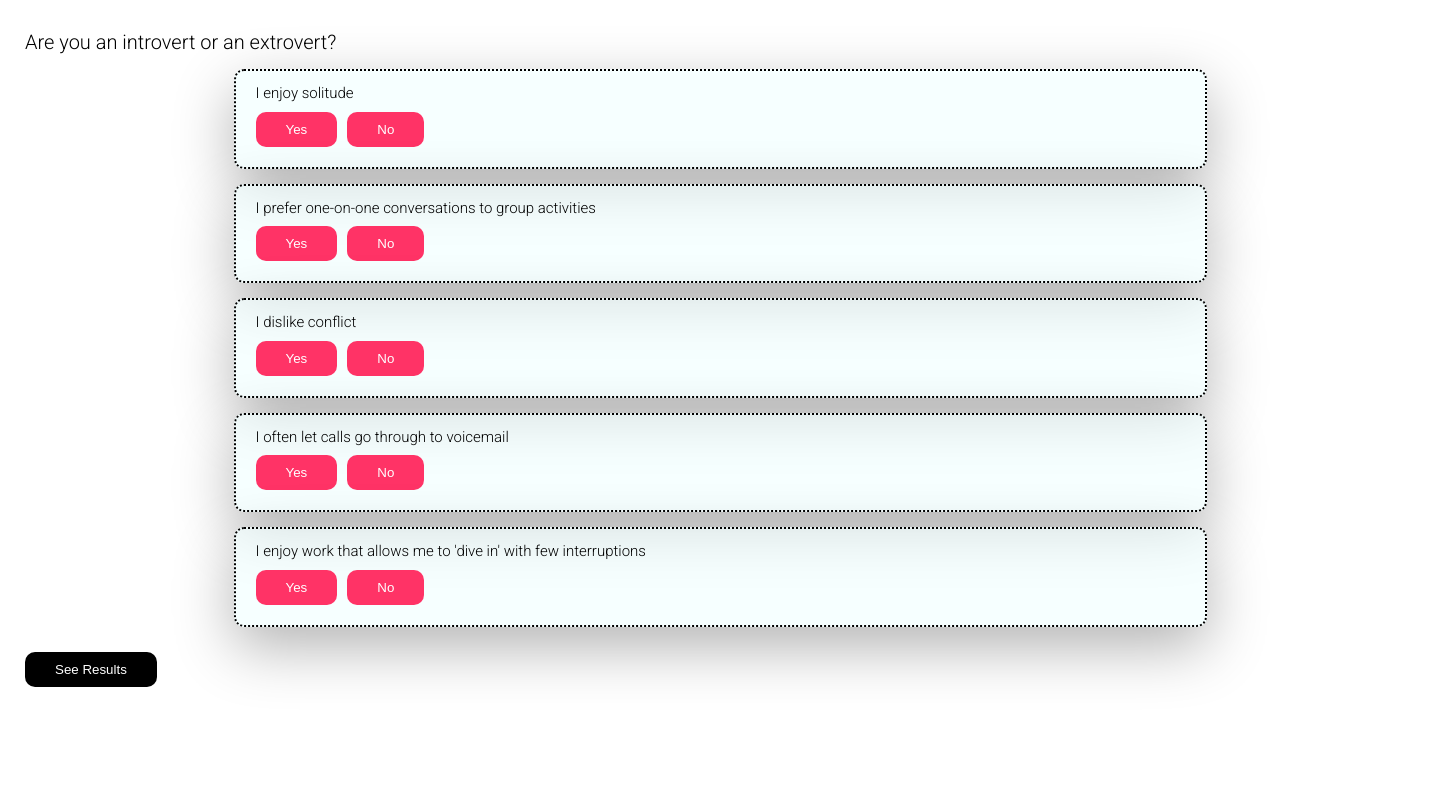
PersonalityPage component › interactions › should display 'Extrovert' on button clicks
This screenshot has width=1440, height=810.
What coordinates should you click on to do the following:
click the button "No" below "I enjoy solitude"
I would click on:
 (386, 129)
Its box is left=347, top=112, right=424, bottom=146.
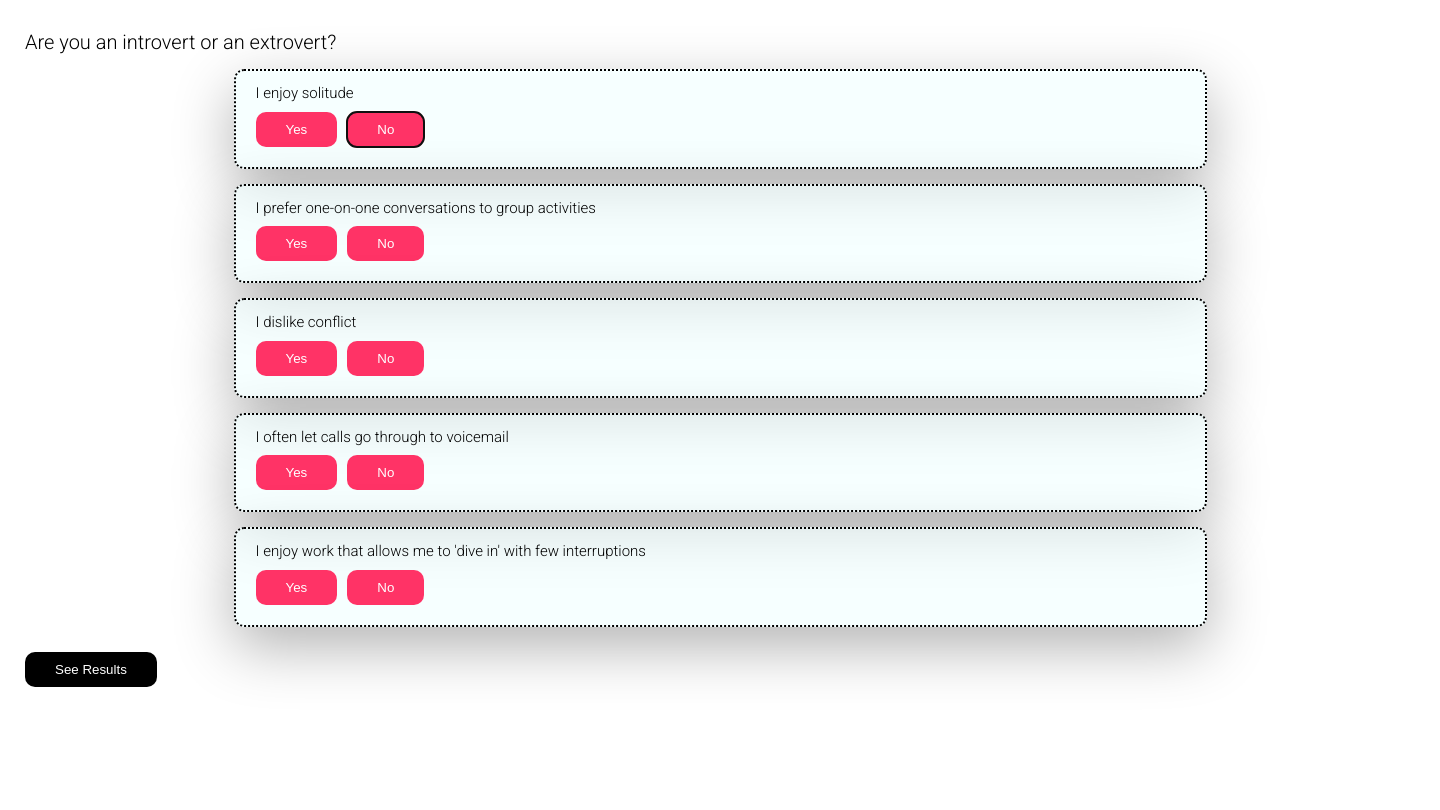
What coordinates should you click on to do the following:
click the 2nd button "No"
I would click on:
 (386, 244)
Its box is left=347, top=226, right=424, bottom=261.
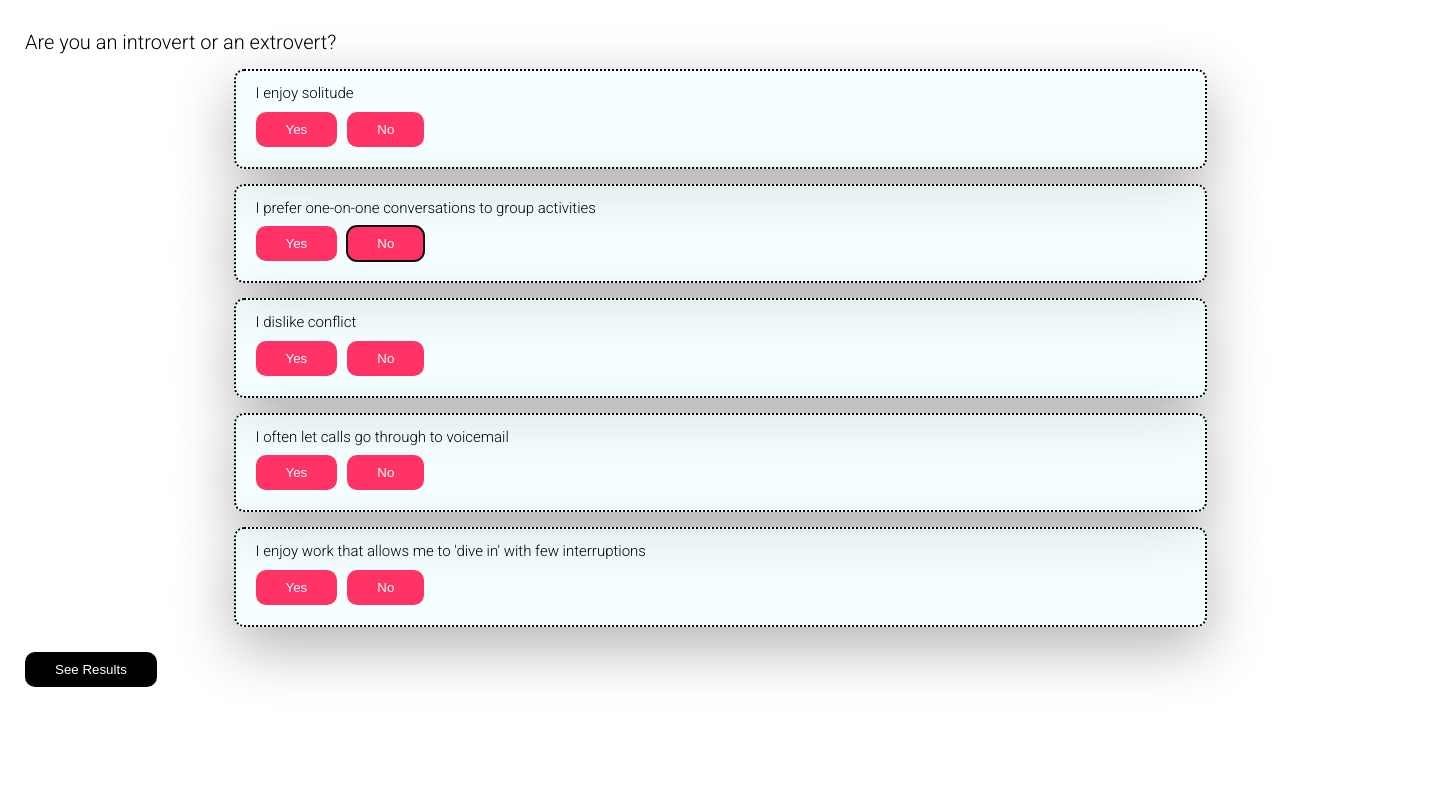
What coordinates should you click on to do the following:
click the button "No" below "I dislike conflict"
I would click on:
 (386, 358)
Its box is left=347, top=340, right=424, bottom=376.
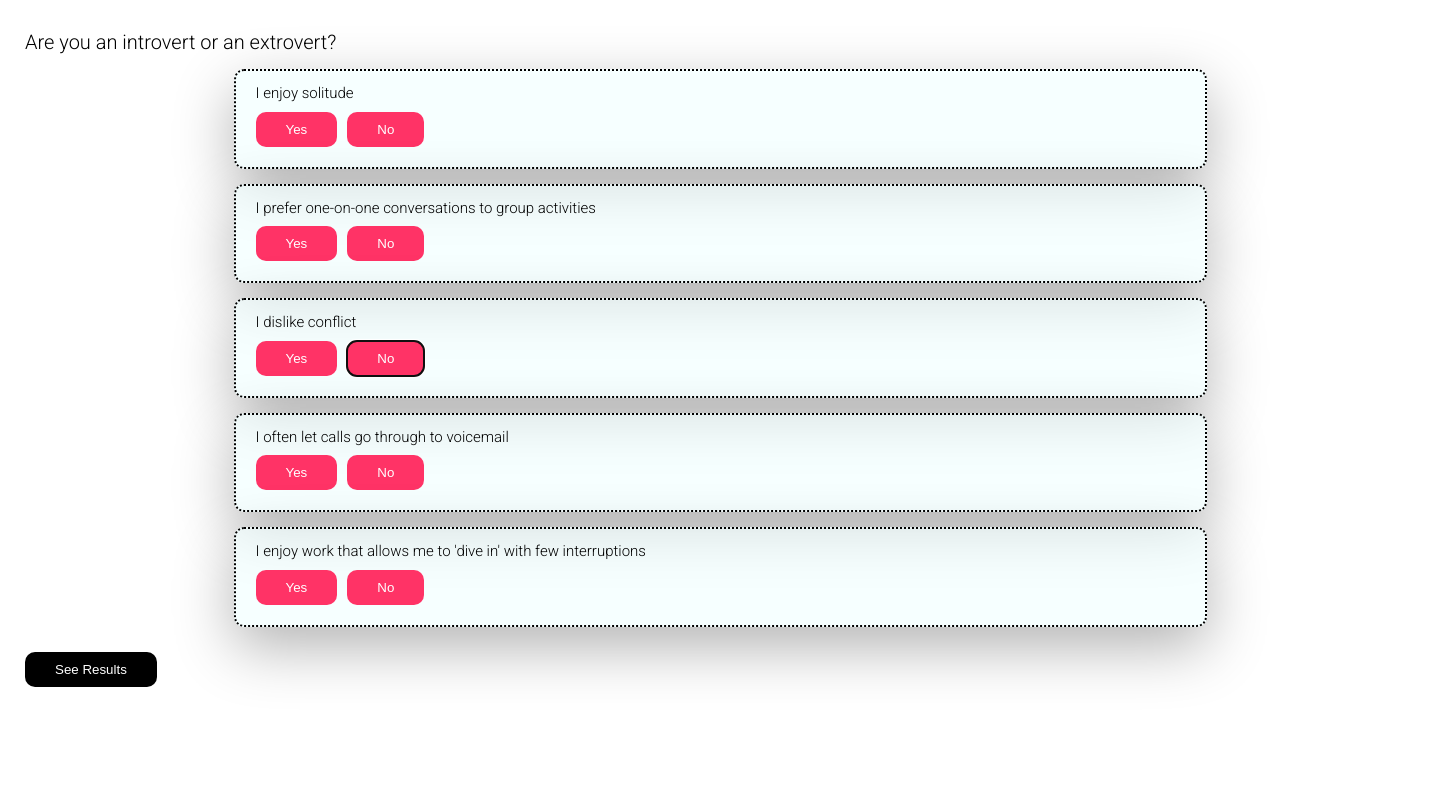
What coordinates should you click on to do the following:
click the 4th button "No"
I would click on:
 (386, 472)
Its box is left=347, top=455, right=424, bottom=490.
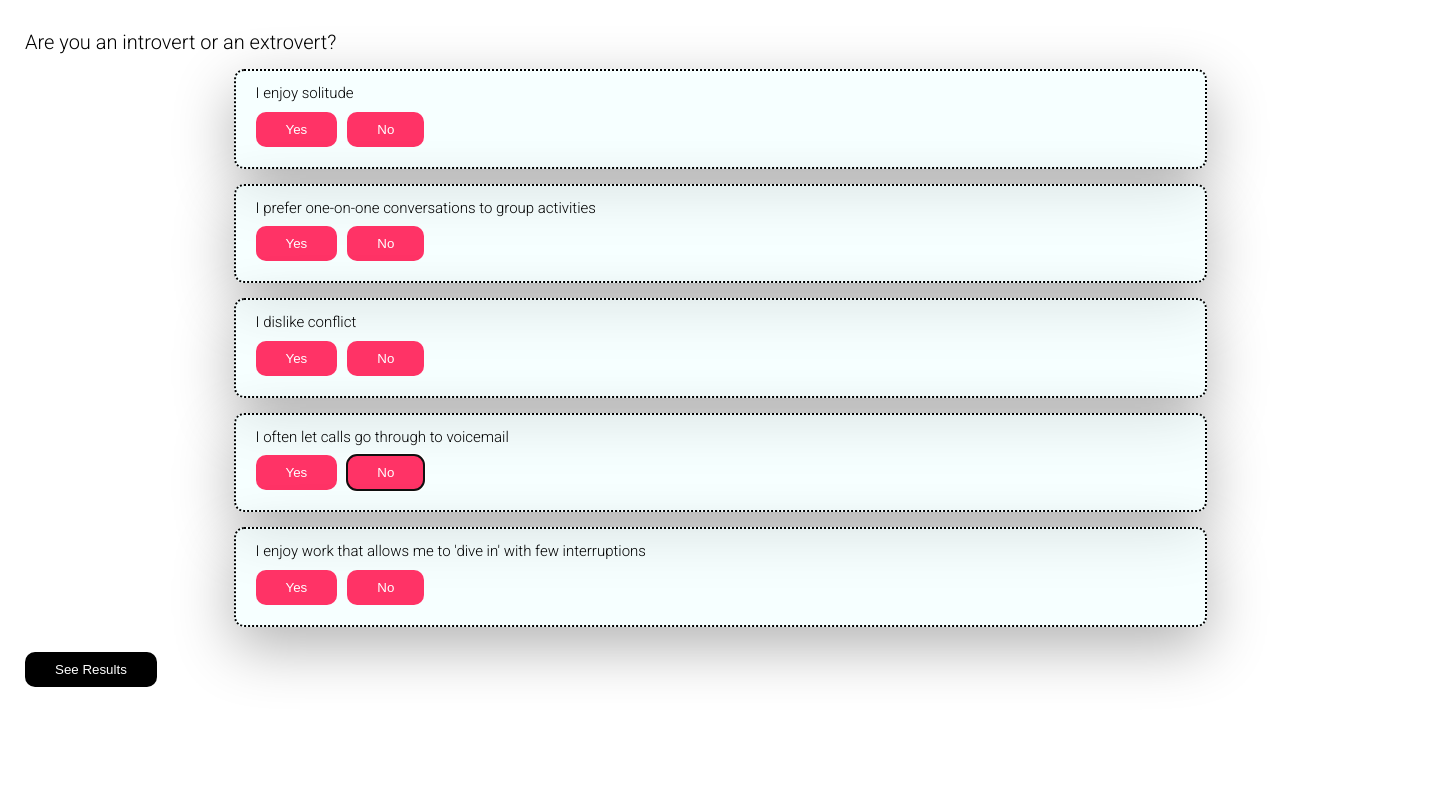
What coordinates should you click on to do the following:
click the 5th button "No"
I would click on:
 (386, 587)
Its box is left=347, top=570, right=424, bottom=604.
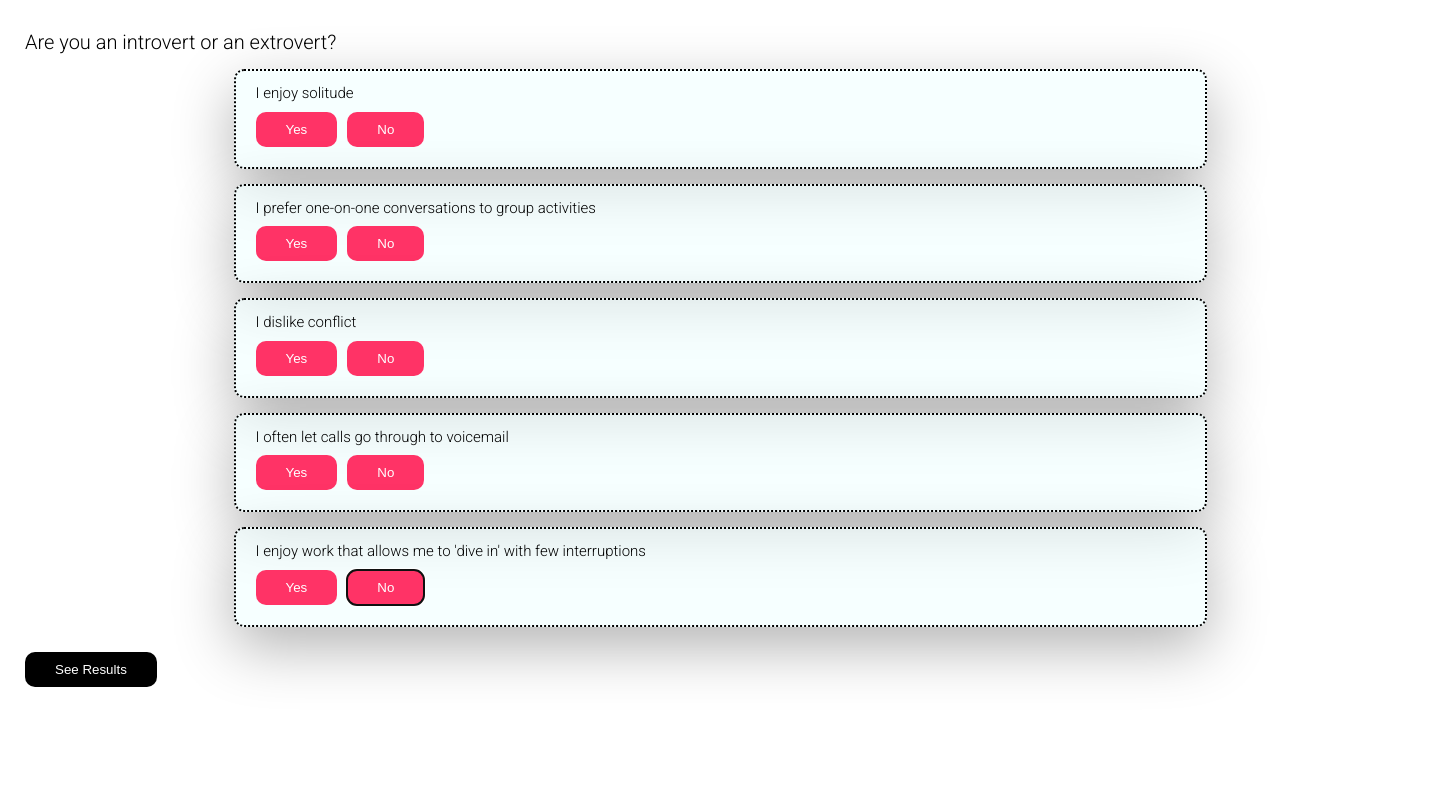
What coordinates should you click on to do the following:
click the button "See Results"
I would click on:
 (91, 669)
Its box is left=25, top=652, right=157, bottom=686.
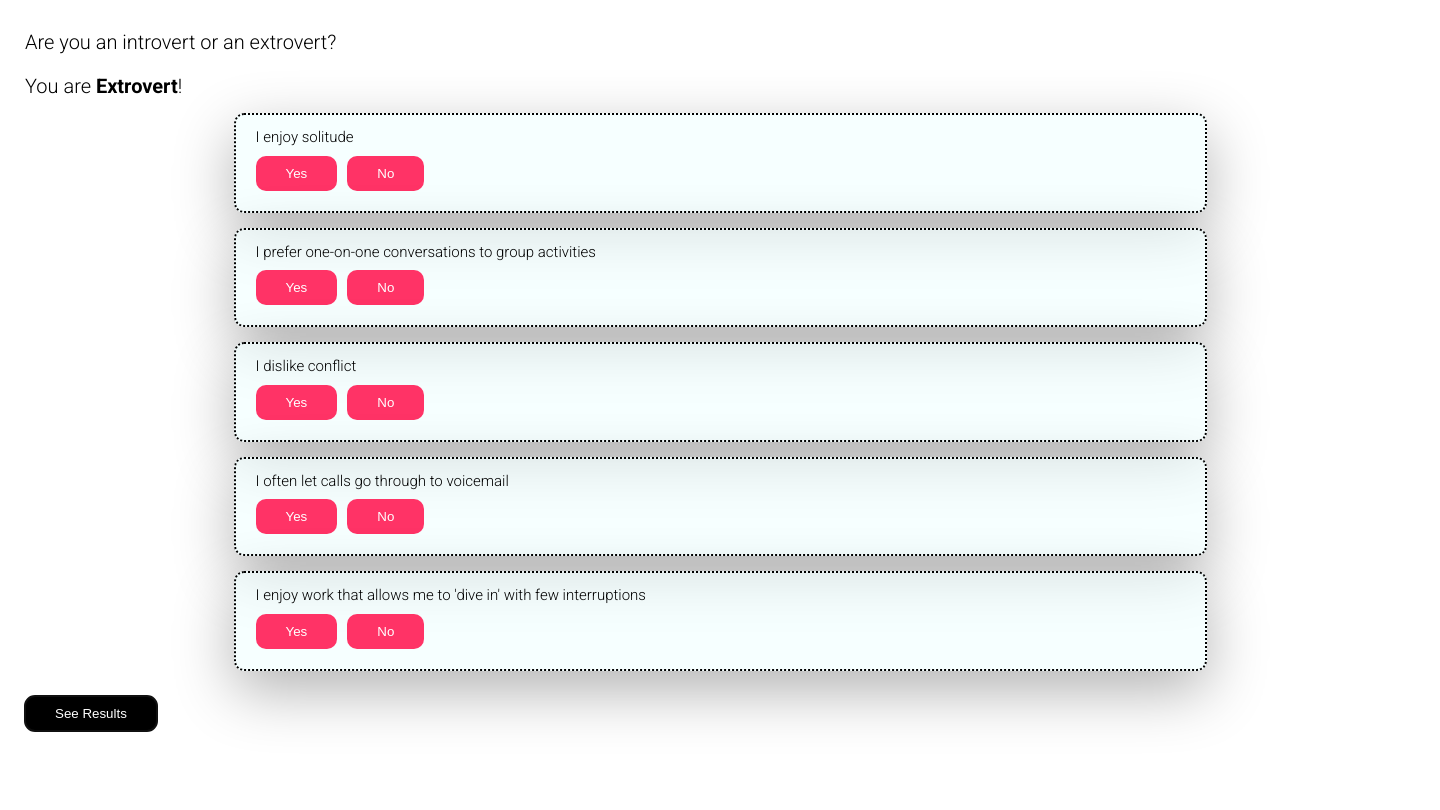
Expected: the text "Extrovert" is shown, left=96, top=74, right=178, bottom=98
